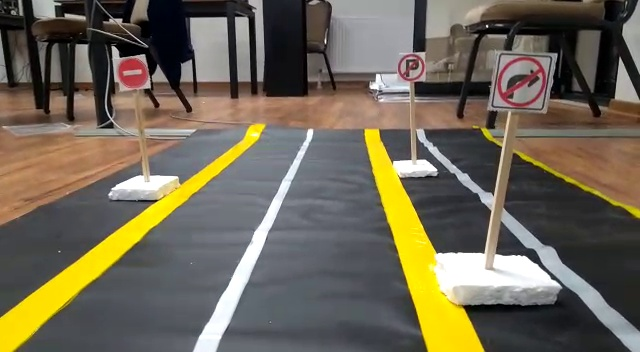girisi_olmayan_yol: (114, 58, 153, 89)
park_yapilmaz: (397, 53, 426, 82)
saga_donulmez: (495, 48, 549, 112)
